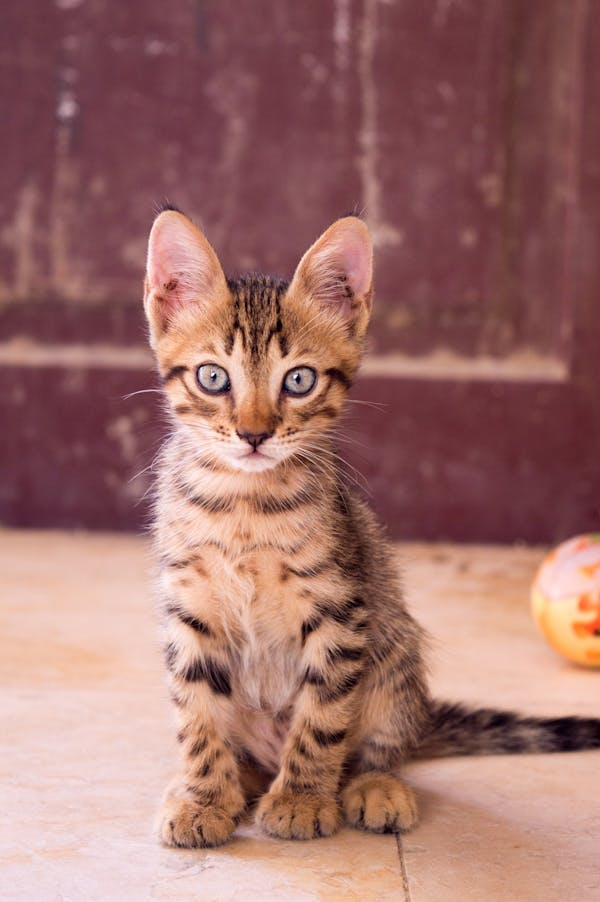Cat: (140, 208, 600, 845)
